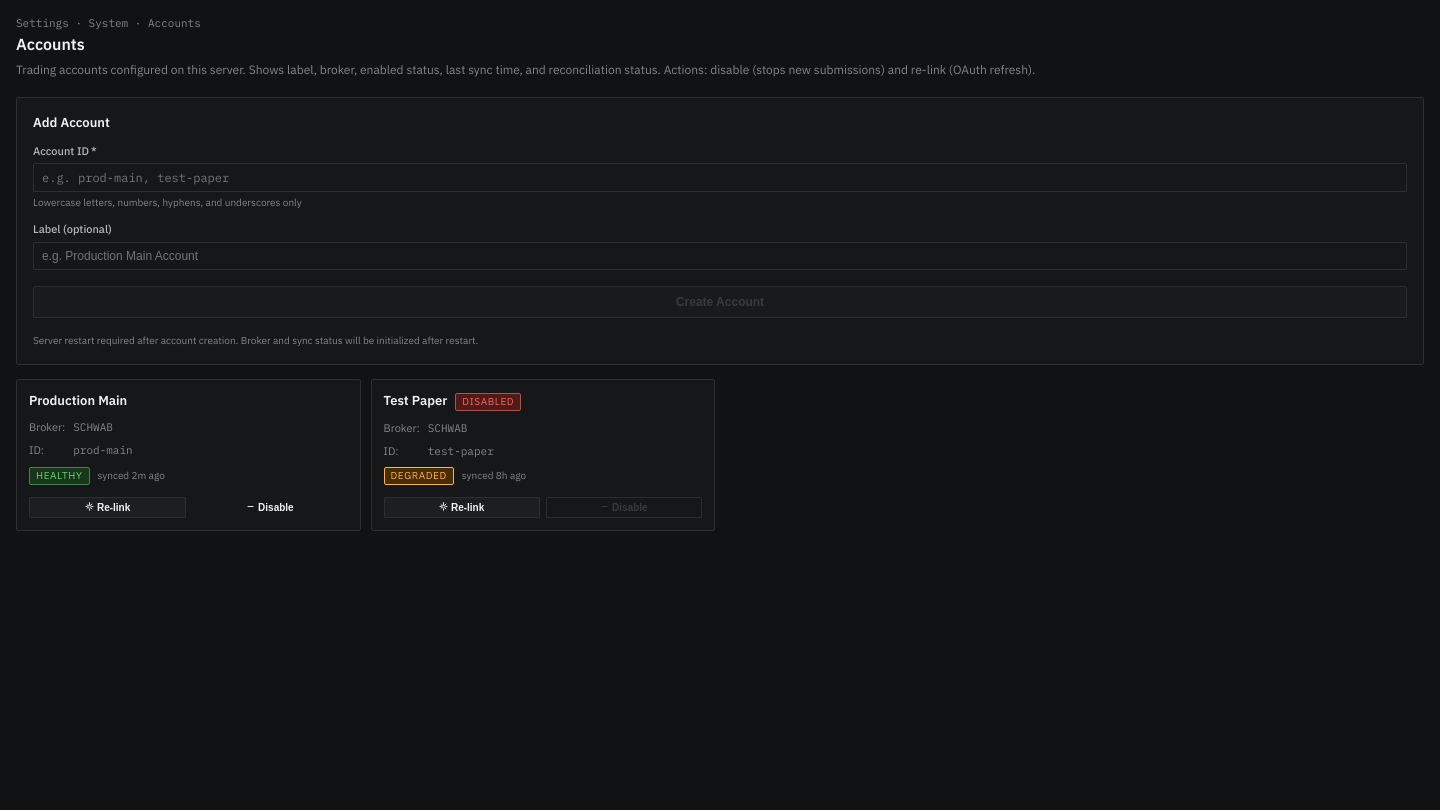
Test case: AccountsScreen › AddAccountForm › shows restart required notice after successful creation
Expected: the text "Add Account" is shown, [33,114,110,131]
Type "new-account" into the field with placeholder "e.g. prod-main, test-paper".
click(720, 178); type("new-account")  # box [33,163,1407,192]
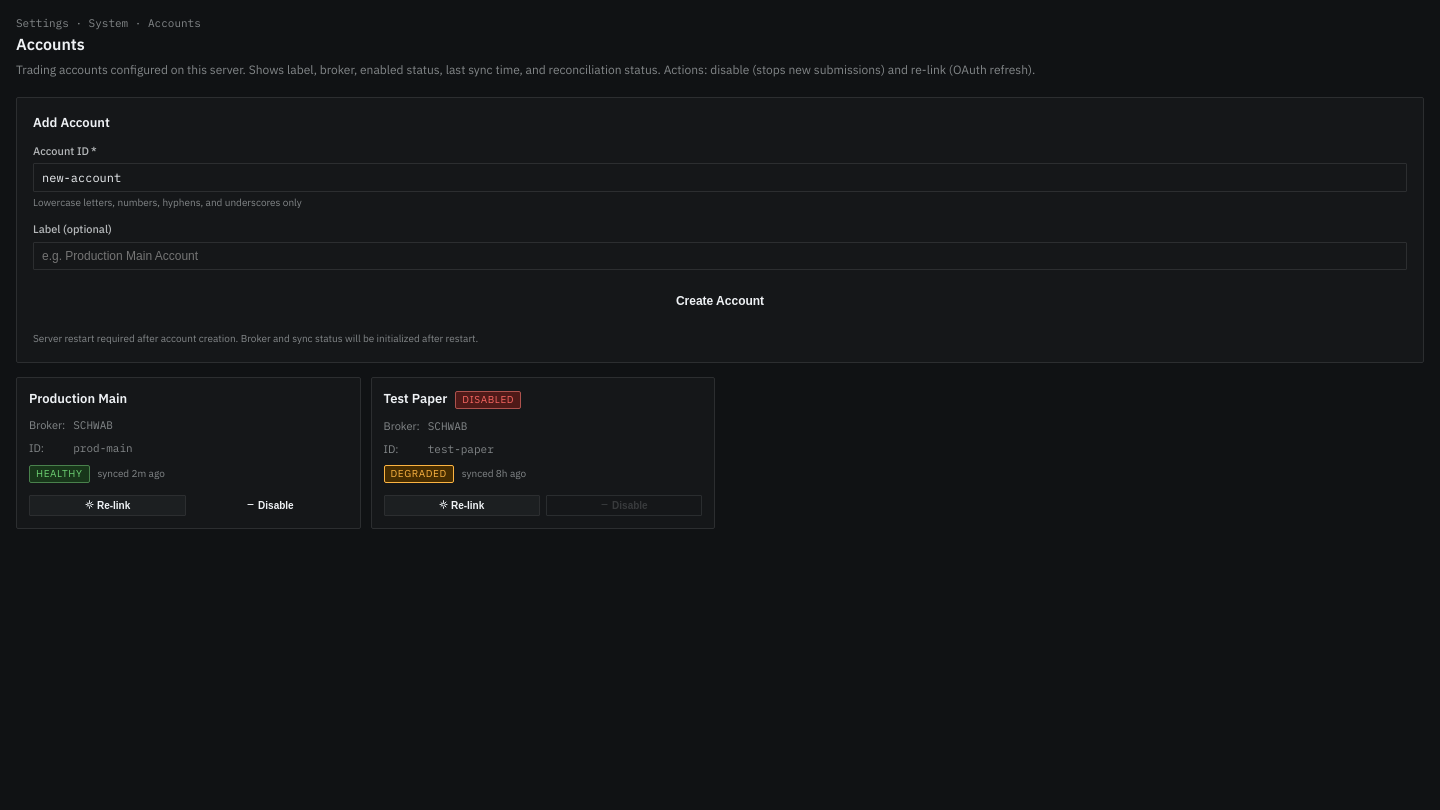
Click the button "Create Account".
click(720, 300)  # box [33,286,1407,316]
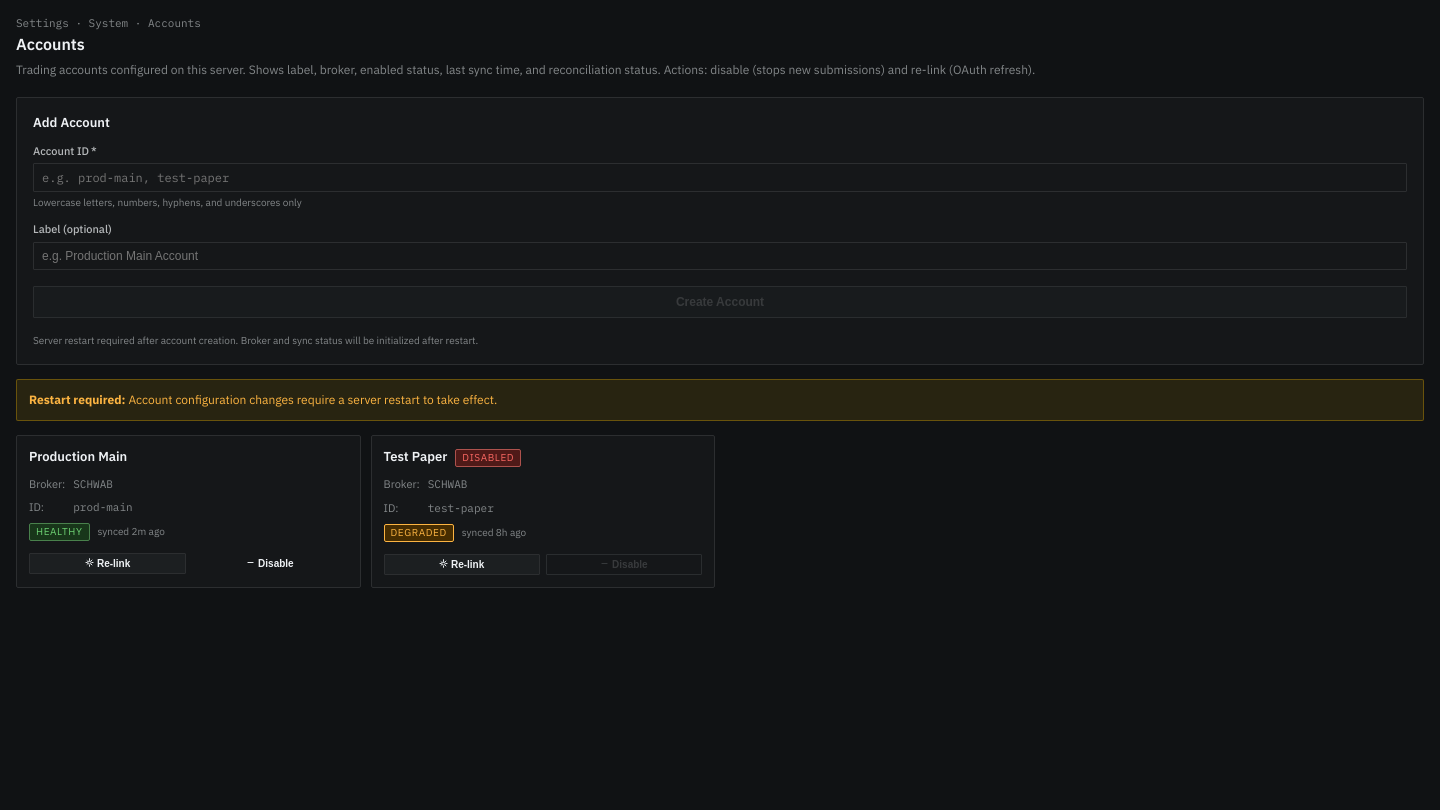
Now the text "Restart required:" is shown, box [29,392,126,406]
